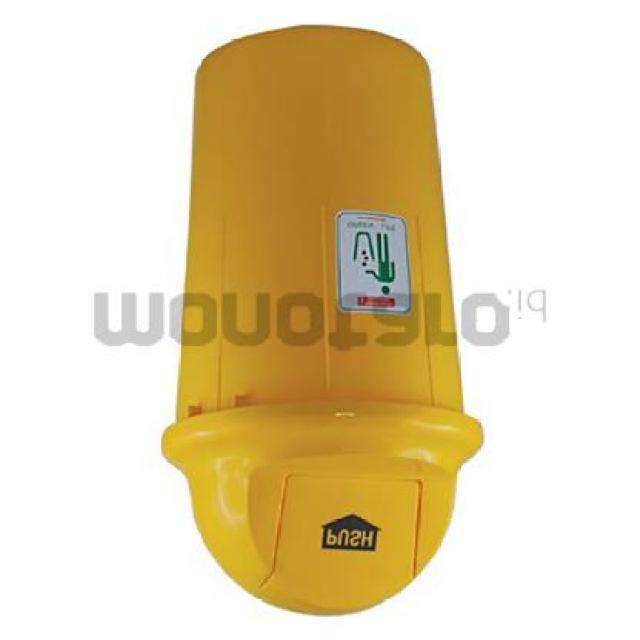garbage container: (133, 7, 501, 630)
